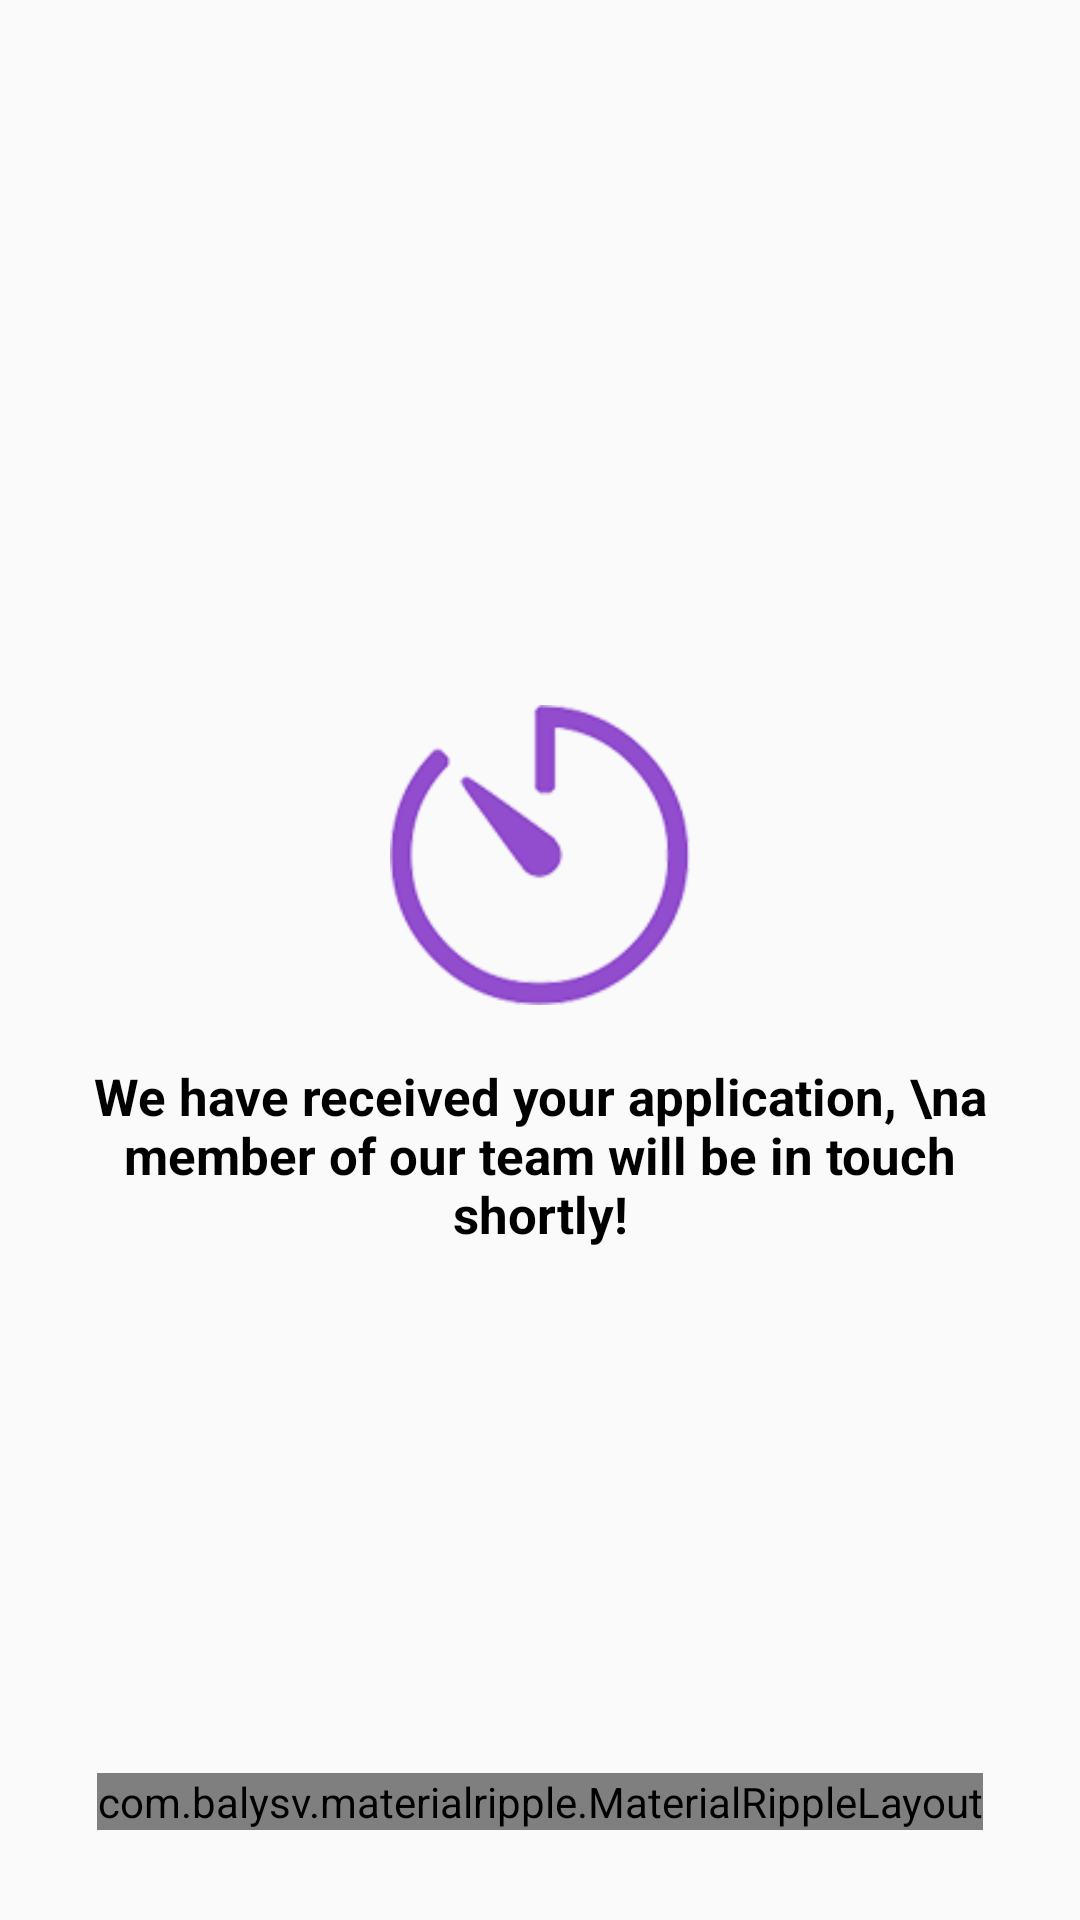

Named icons in this screenshot (1080 × 1920) and their bounding boxes, (x1, y1, x2, y2):
clock: (390, 705, 690, 1005)
